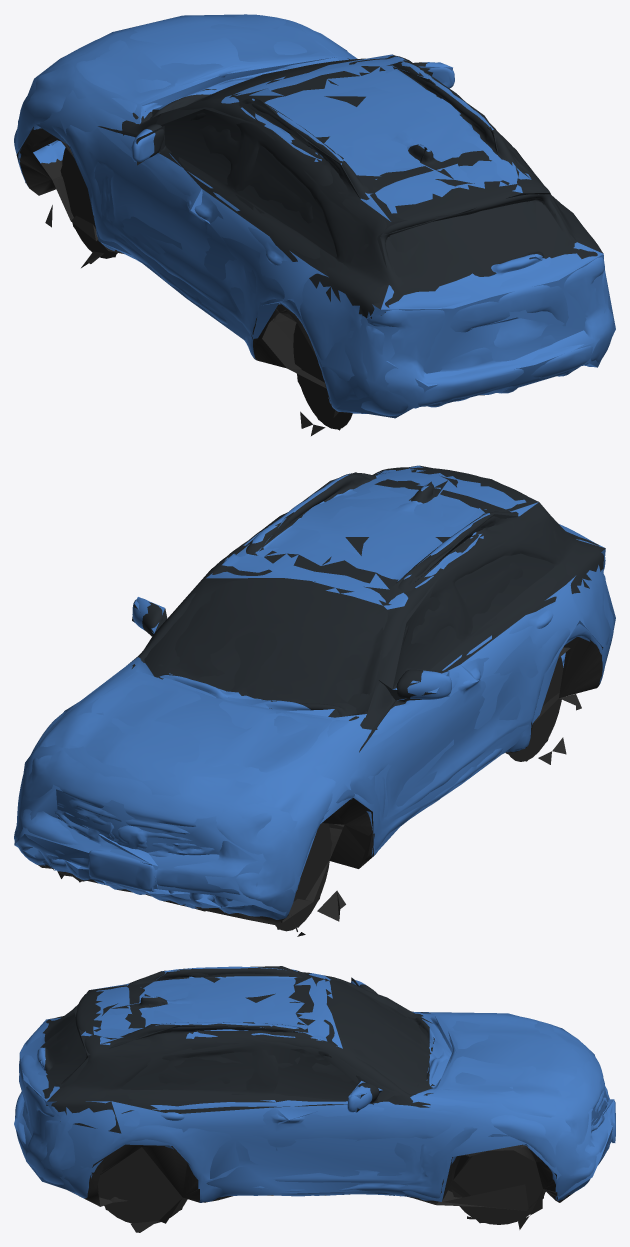
Rendered from infiniti-qx70.glb.
3 views of the same model, one above another, from view 1: azimuth 30°, elevation 25°; view 2: azimuth 150°, elevation 25°; view 3: azimuth 270°, elevation 25° (orthographic). The views are drawn at different scales.
Visible parts, largest first — view 1: body, far; view 2: body, far; view 3: body, far.
Part boxes in pixels (x1,y1,x2,y2): body: (14,14,613,435); far: (16,14,615,430); body: (14,467,613,936); far: (14,465,615,935); body: (15,966,615,1232); far: (14,966,615,1229).
Bounding box in the file's own units: 2.31 × 1.75 × 4.93.
